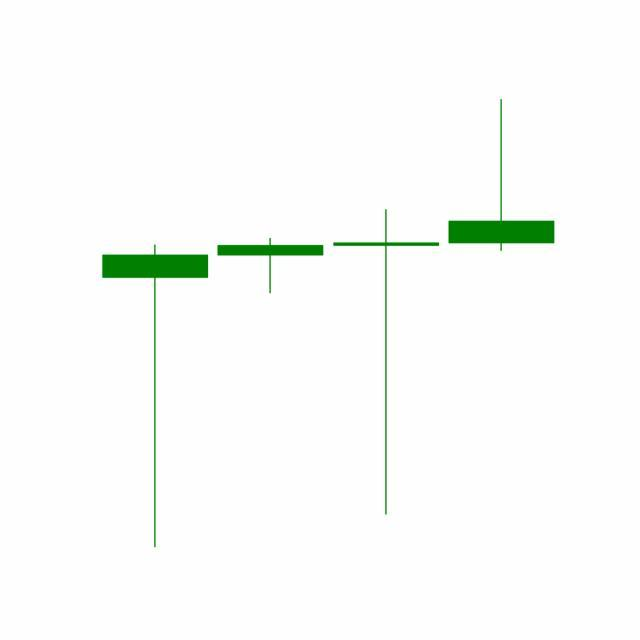Spinning Top: (329, 206, 445, 519)
